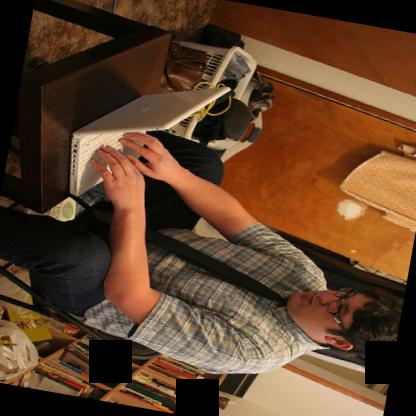handbag: (165, 42, 216, 87)
